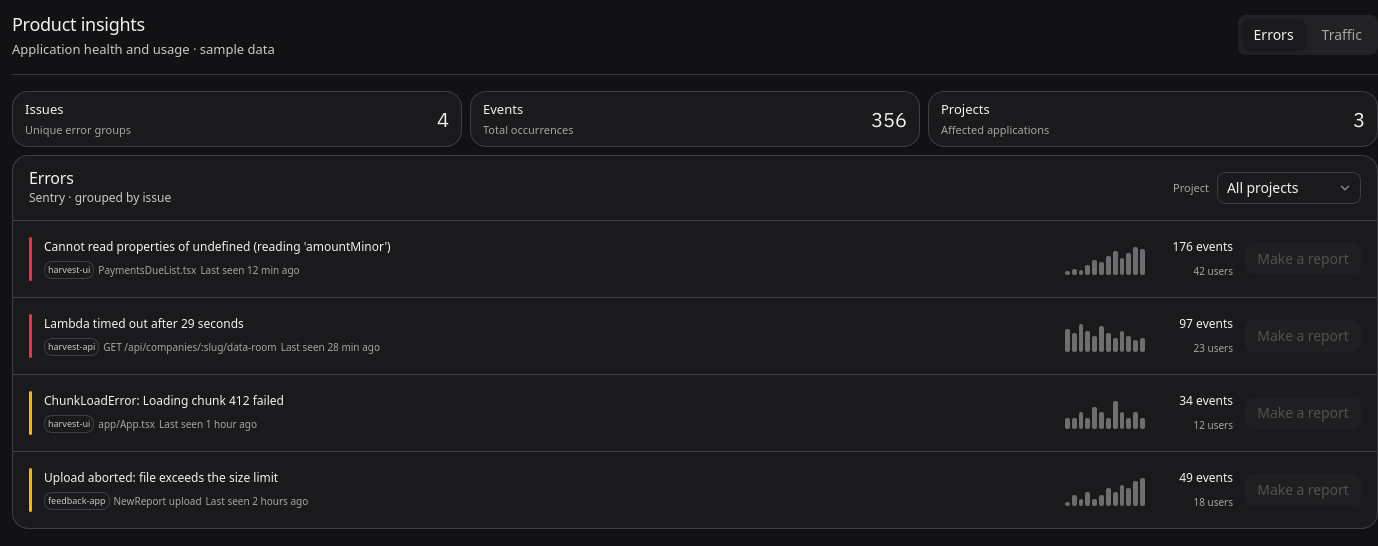
Test case: shows labelled prototype issues without writing to AWS when Sentry is not configured
Expected: the heading "Cannot read properties of undefined (reading 'amountMinor')" is shown, [44,238,391,255]
Expected: the text "356" is shown, [871,108,907,130]
Select "harvest-api" in the dropdown labelled "Project" at (1289, 188), box [1217,172,1361,204]
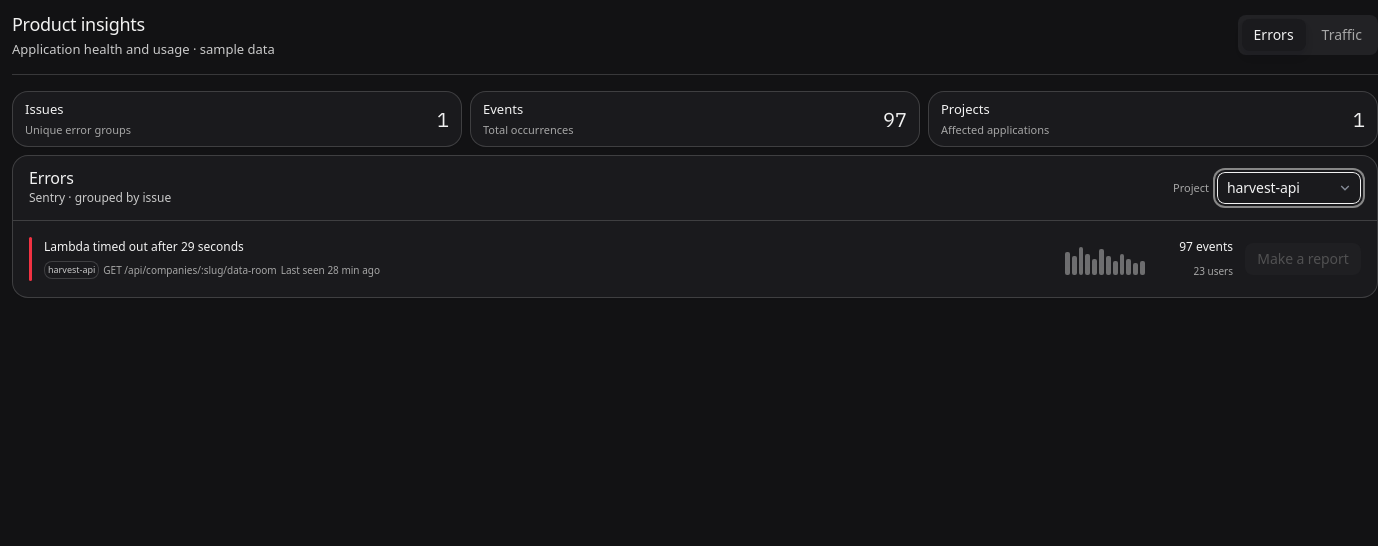
Expected: the heading "Lambda timed out after 29 seconds" is shown, [44,238,244,255]
Now the heading "Cannot read properties of undefined (reading 'amountMinor')" is gone
Now the text "97" is shown, box [883,108,907,130]
